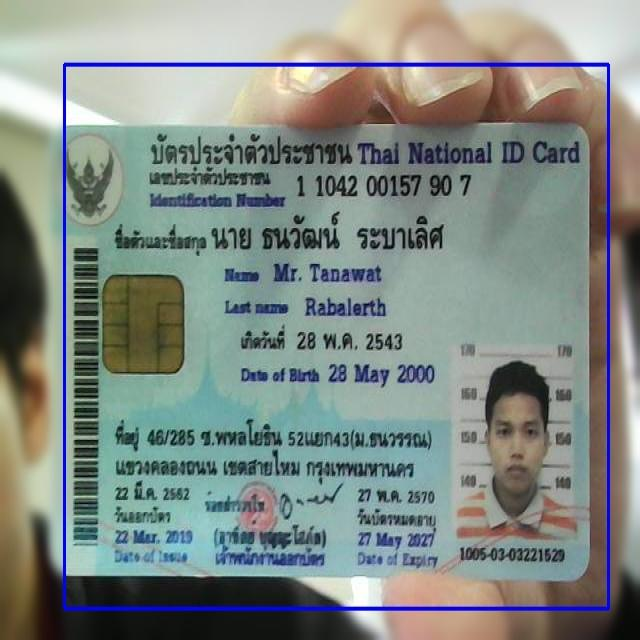Address_th: (110, 413, 437, 488)
Date_of_Birth: (322, 357, 438, 392)
Date_of_Expiry: (353, 528, 442, 552)
Date_of_Issue: (111, 523, 200, 549)
First_Name: (269, 257, 385, 289)
ID_Number: (292, 168, 478, 203)
Image: (450, 341, 581, 544)
Last_Name: (302, 292, 392, 324)
Thai_Name: (209, 205, 452, 265)
